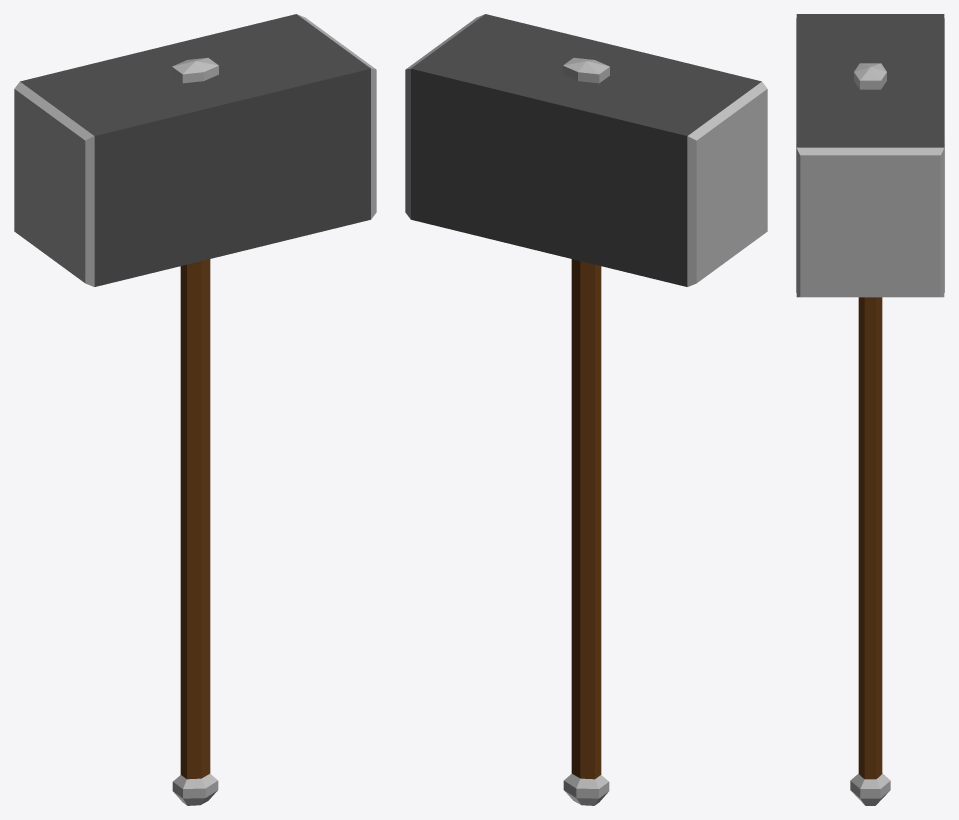
The model's file is Weapon_HammerUV.fbx.
3 renders of one model, left to right at view 1: azimuth 30°, elevation 25°; view 2: azimuth 150°, elevation 25°; view 3: azimuth 270°, elevation 25°, orthographic.
Visible parts, largest first — view 1: Cylinder.001; view 2: Cylinder.001; view 3: Cylinder.001.
Boxes of the visible parts, x1,y1,x2,y2 form: Cylinder.001: (14, 14, 376, 805); Cylinder.001: (405, 14, 767, 805); Cylinder.001: (796, 14, 944, 805).
Bounding box in the file's own units: 45.95 × 112 × 20.43.
